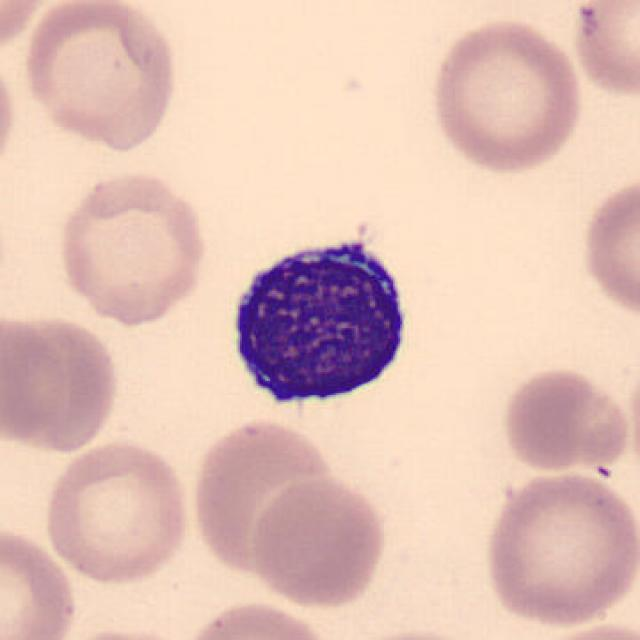Lymphocyte: (217, 224, 419, 418)
RBC: (423, 14, 587, 176), (478, 466, 638, 630), (52, 167, 214, 328), (187, 414, 341, 580), (19, 0, 183, 153), (39, 436, 194, 587), (247, 474, 389, 610), (2, 308, 122, 456), (498, 363, 633, 474), (576, 171, 640, 324), (0, 522, 80, 640), (565, 0, 640, 104), (176, 597, 338, 640), (0, 0, 62, 58), (0, 45, 21, 185), (51, 624, 201, 640)
